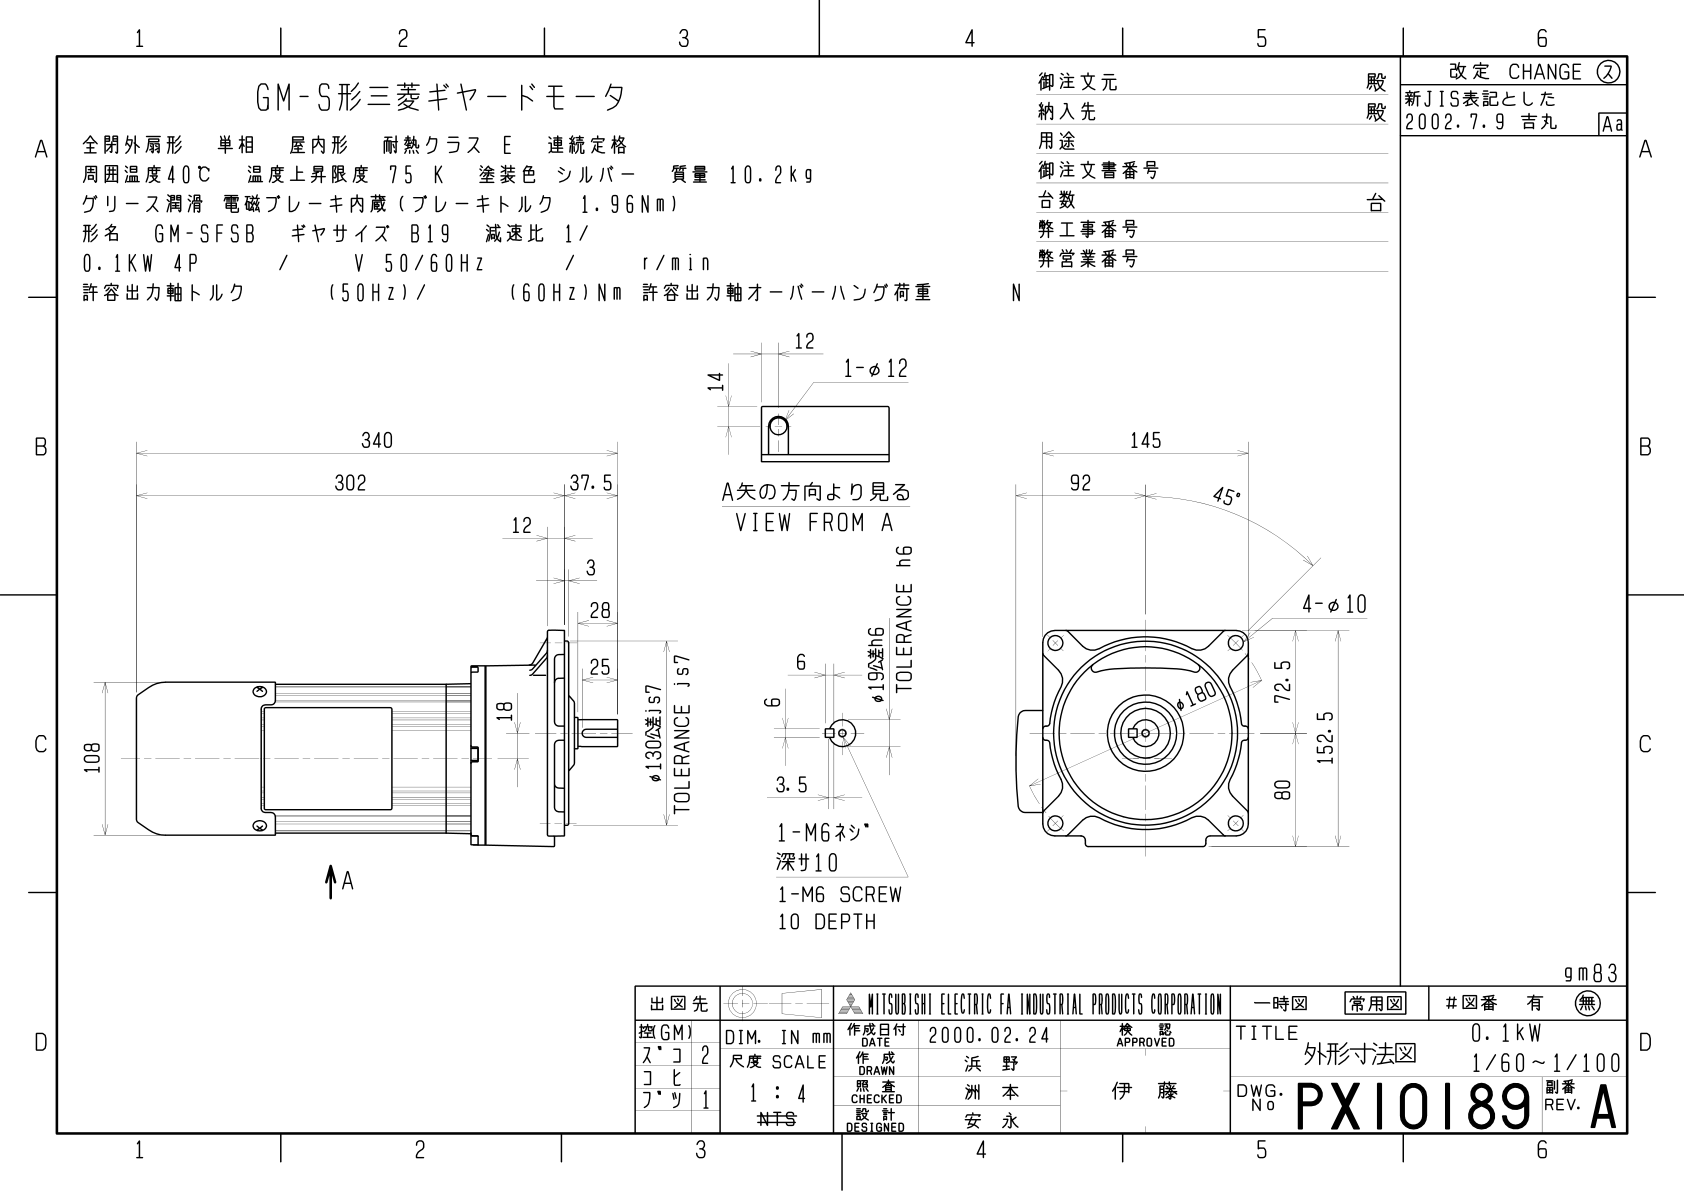GM_S_屋内＿単相_フランジ: (9, 5, 1684, 1191)
